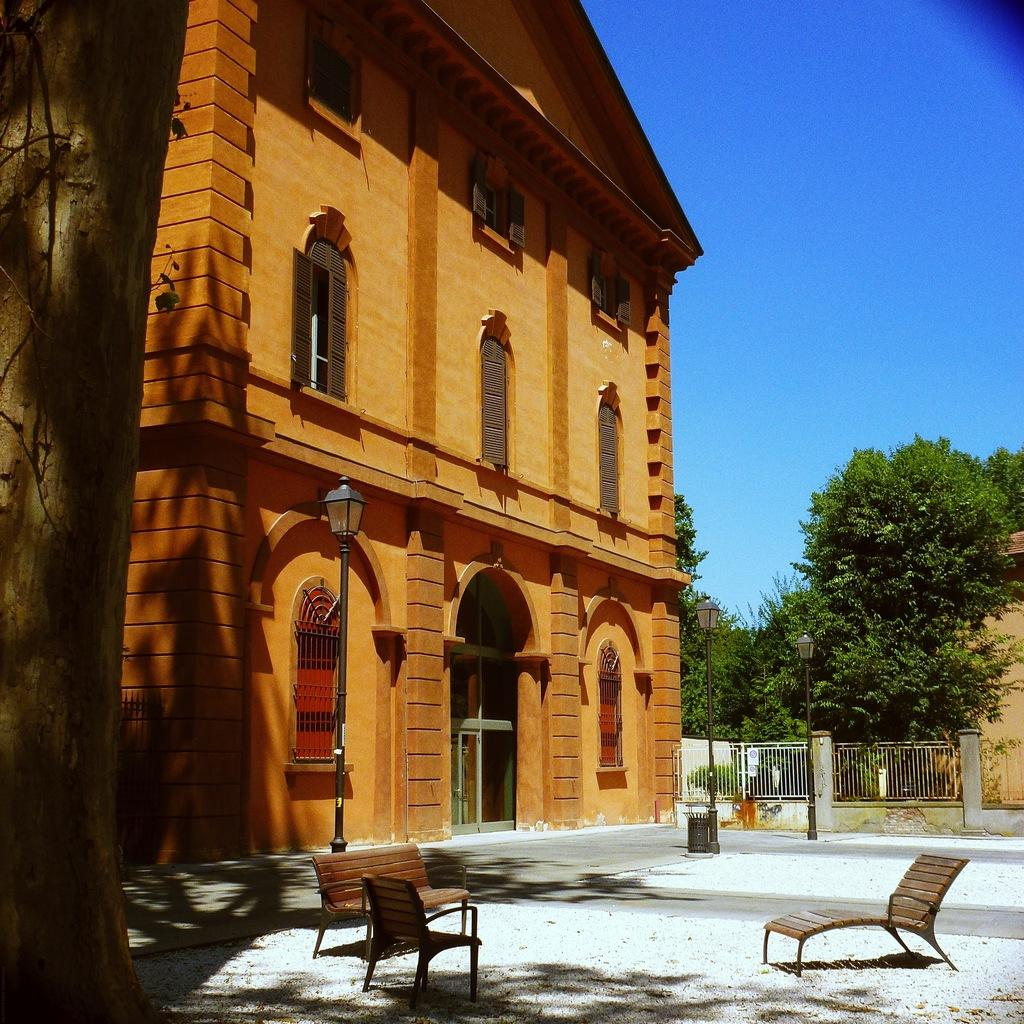Chair: (755, 847, 970, 977), (348, 867, 476, 996)
